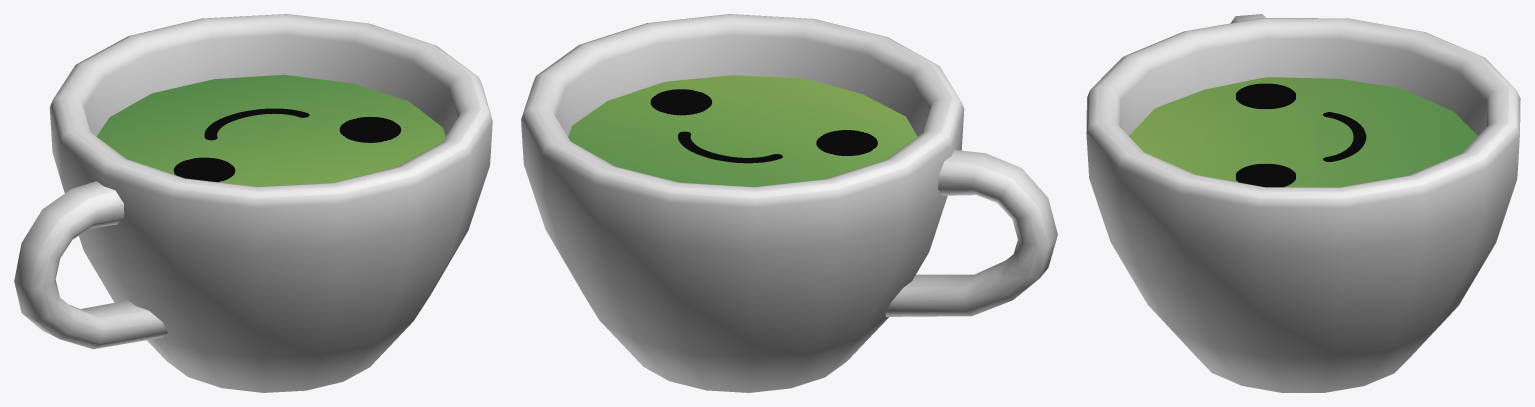
File: tea_green_smile.fbx
3 renders of one model, left to right at view 1: azimuth 30°, elevation 25°; view 2: azimuth 150°, elevation 25°; view 3: azimuth 270°, elevation 25°, orthographic.
Visible parts, largest first — view 1: tea_green_smile; view 2: tea_green_smile; view 3: tea_green_smile.
Part boxes in pixels (box(x1,y1,x2,y2)): tea_green_smile: box(14, 14, 492, 392); tea_green_smile: box(521, 14, 1057, 392); tea_green_smile: box(1086, 14, 1520, 392).
Size of the model in its own units: 20.27 by 16.25 by 10.01.
Materials: 2 (2 with a texture image).
